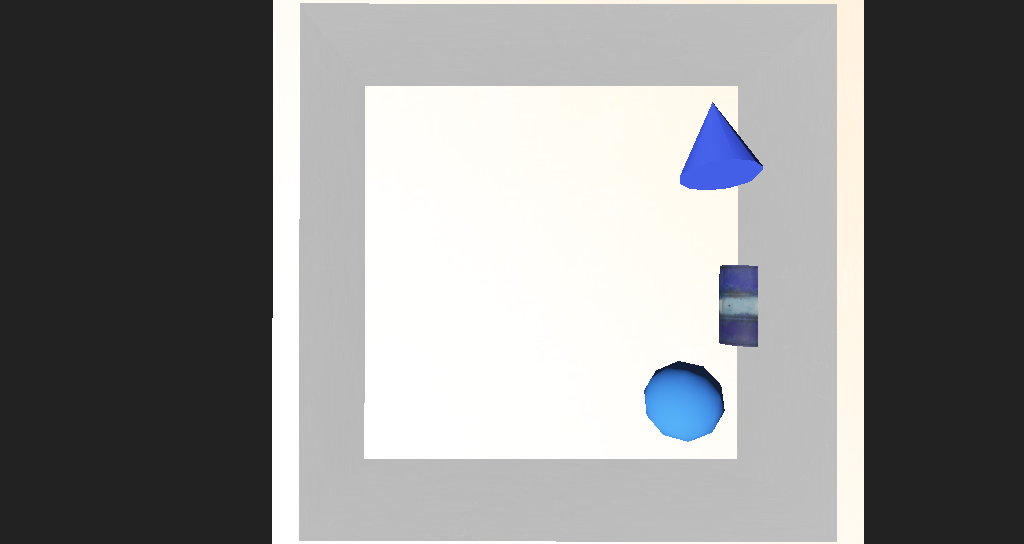cone: (637, 262, 697, 310)
cylinder: (603, 160, 677, 222)
sphere: (583, 322, 643, 365)
